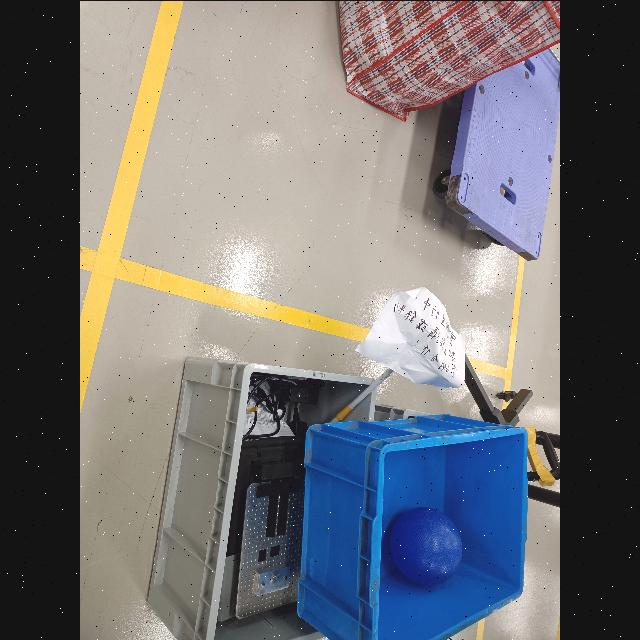B: (386, 506, 464, 586)
